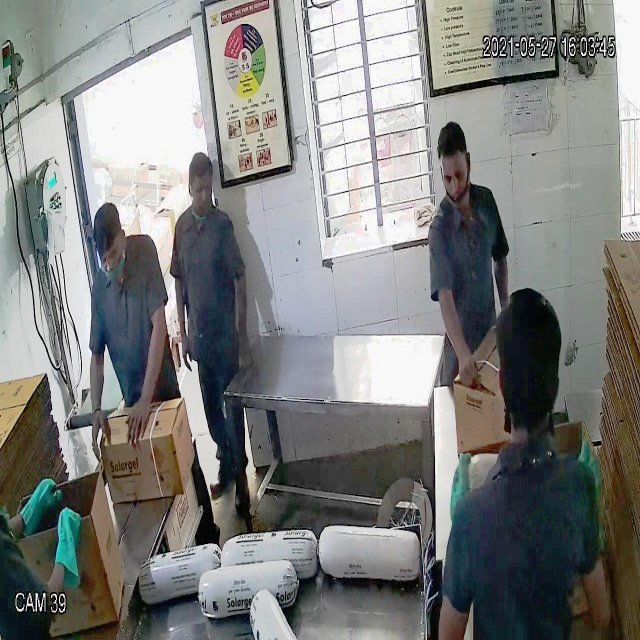Sin_gafas: (437, 161, 473, 194), (92, 237, 126, 270)
